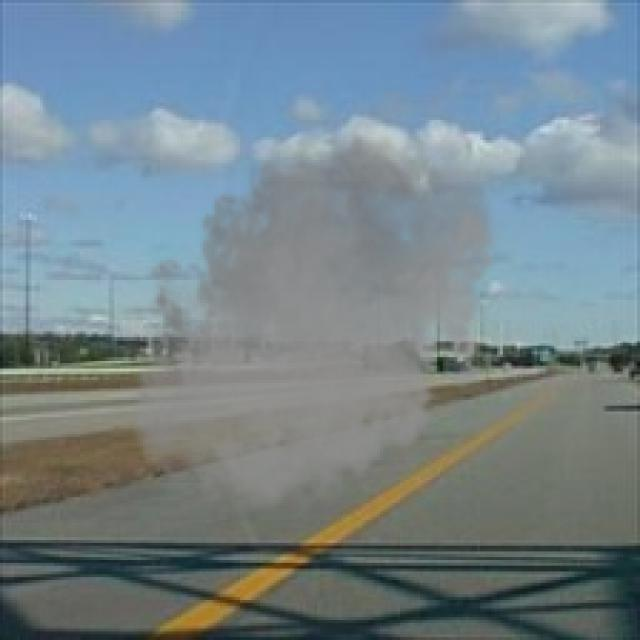smoke: (126, 106, 508, 526)
